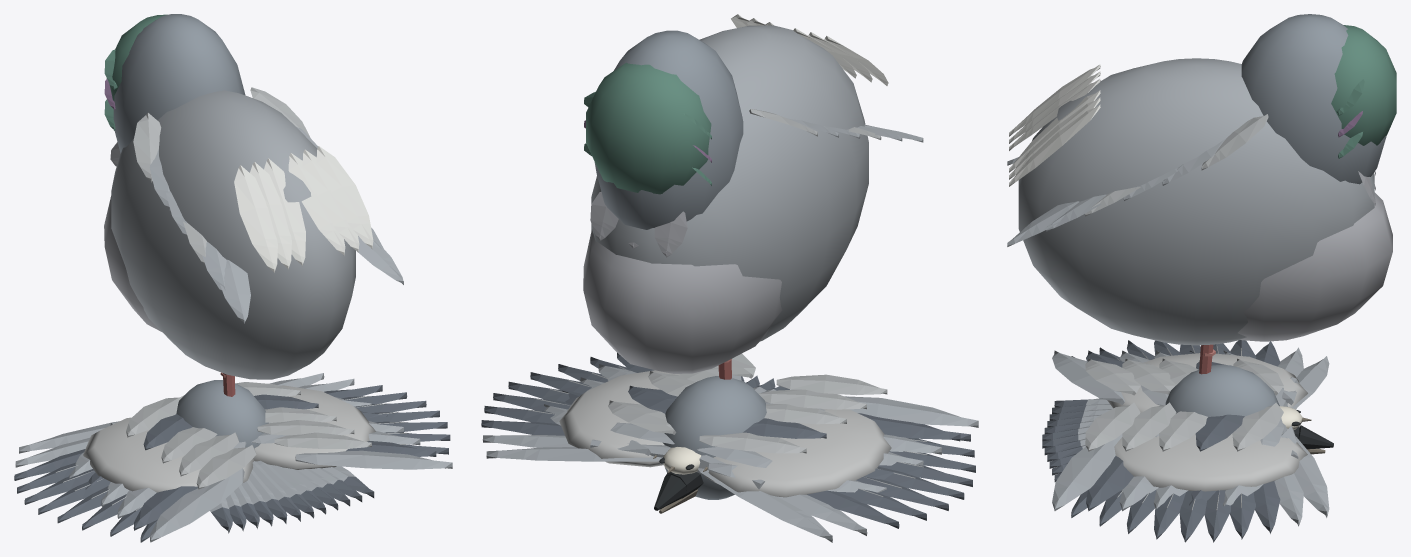
The model's file is opening-overture.glb.
The picture shows the model from 3 angles, left to right: view 1: azimuth 30°, elevation 25°; view 2: azimuth 150°, elevation 25°; view 3: azimuth 270°, elevation 25°; orthographic projection. The views are drawn at different scales.
Parts seen in each view (by area): view 1: overture_pigeon_body, overture_pigeon_wing_inner_l, overture_pigeon_wing_inner_r, overture_pigeon_tail, overture_pigeon_wing_outer_l, overture_pigeon_wing_outer_r, overture_pigeon_head; view 2: overture_pigeon_body, overture_pigeon_wing_inner_l, overture_pigeon_wing_outer_l, overture_pigeon_wing_inner_r, overture_pigeon_wing_outer_r, overture_pigeon_head, overture_pigeon_beak; view 3: overture_pigeon_body, overture_pigeon_wing_inner_r, overture_pigeon_wing_outer_r, overture_pigeon_wing_inner_l, overture_pigeon_head, overture_pigeon_wing_outer_l, overture_pigeon_tail, overture_pigeon_beak.
Part boxes in pixels (left/top/right/bottom): overture_pigeon_body: left=104, top=14, right=403, bottom=379; overture_pigeon_wing_inner_l: left=69, top=395, right=256, bottom=542; overture_pigeon_wing_inner_r: left=235, top=382, right=452, bottom=469; overture_pigeon_tail: left=210, top=460, right=374, bottom=533; overture_pigeon_wing_outer_l: left=14, top=421, right=246, bottom=542; overture_pigeon_wing_outer_r: left=251, top=373, right=450, bottom=468; overture_pigeon_head: left=176, top=380, right=268, bottom=448; overture_pigeon_body: left=583, top=14, right=923, bottom=373; overture_pigeon_wing_inner_l: left=699, top=374, right=978, bottom=497; overture_pigeon_wing_outer_l: left=696, top=402, right=975, bottom=542; overture_pigeon_wing_inner_r: left=544, top=352, right=755, bottom=467; overture_pigeon_wing_outer_r: left=481, top=357, right=674, bottom=464; overture_pigeon_head: left=663, top=376, right=766, bottom=499; overture_pigeon_beak: left=654, top=447, right=703, bottom=513; overture_pigeon_body: left=1007, top=14, right=1396, bottom=345; overture_pigeon_wing_inner_r: left=1052, top=402, right=1307, bottom=511; overture_pigeon_wing_outer_r: left=1071, top=418, right=1329, bottom=542; overture_pigeon_wing_inner_l: left=1052, top=350, right=1307, bottom=413; overture_pigeon_head: left=1165, top=364, right=1279, bottom=416; overture_pigeon_wing_outer_l: left=1071, top=340, right=1329, bottom=409; overture_pigeon_tail: left=1042, top=398, right=1113, bottom=481; overture_pigeon_beak: left=1279, top=406, right=1333, bottom=454.
Size of what is drawn, in the model's own units: 0.287 by 0.297 by 0.2304.
